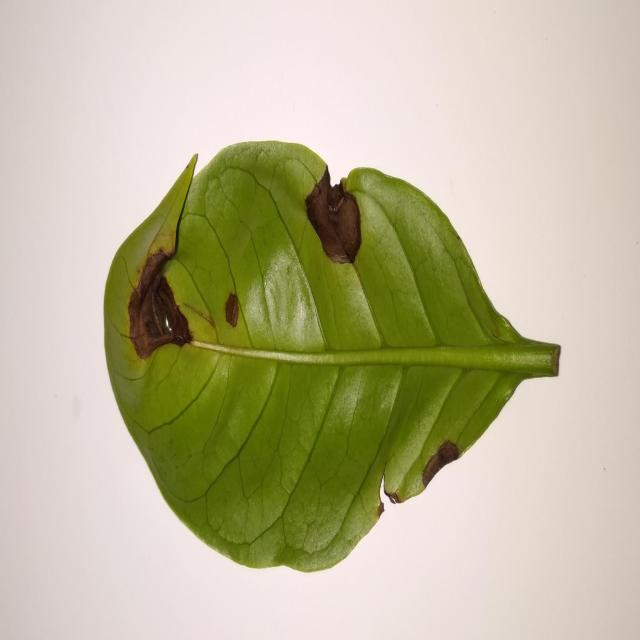Enfermedad-Antracnosis: (102, 141, 562, 577)
